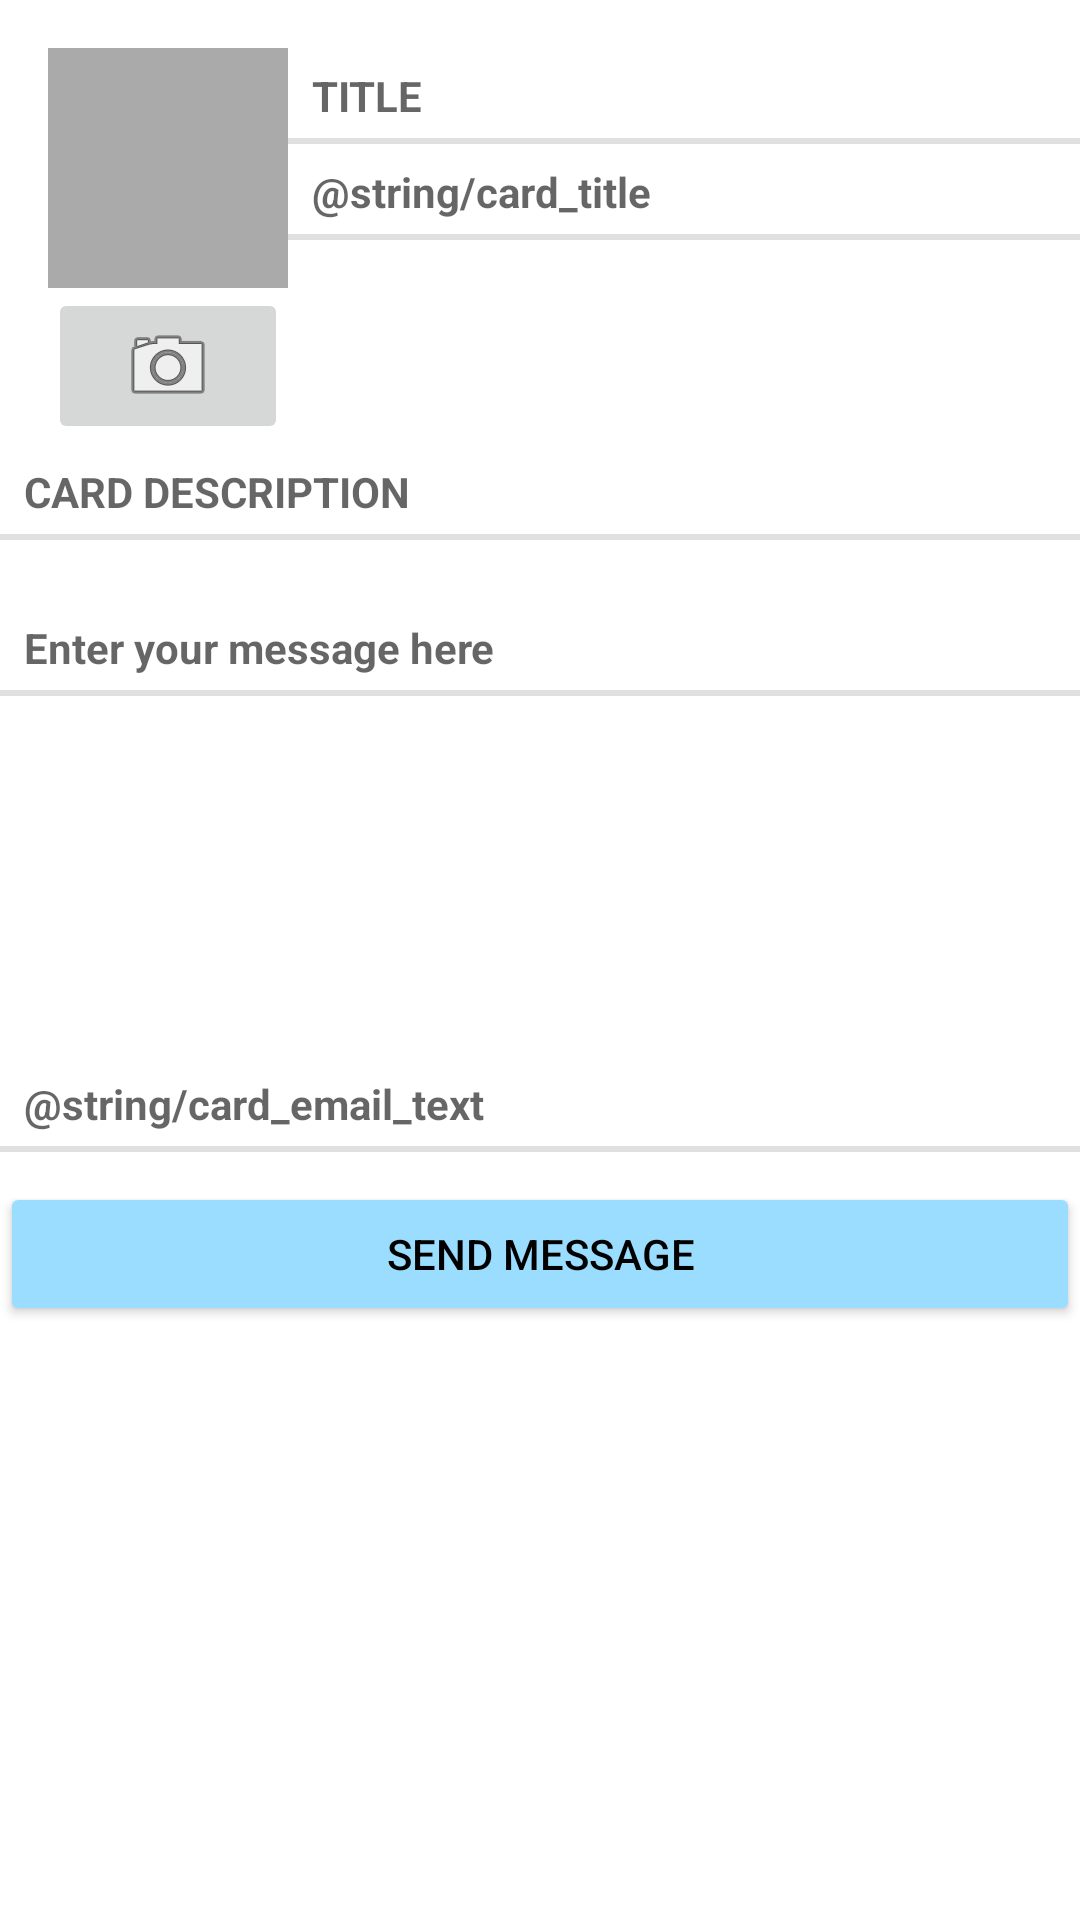

Named icons in this screenshot (1080px×1920px) and their bounding boxes, {"x1": x1, "y1": y1, "x2": x2, "y2": y2}:
camera: {"x1": 60, "y1": 306, "x2": 276, "y2": 426}
